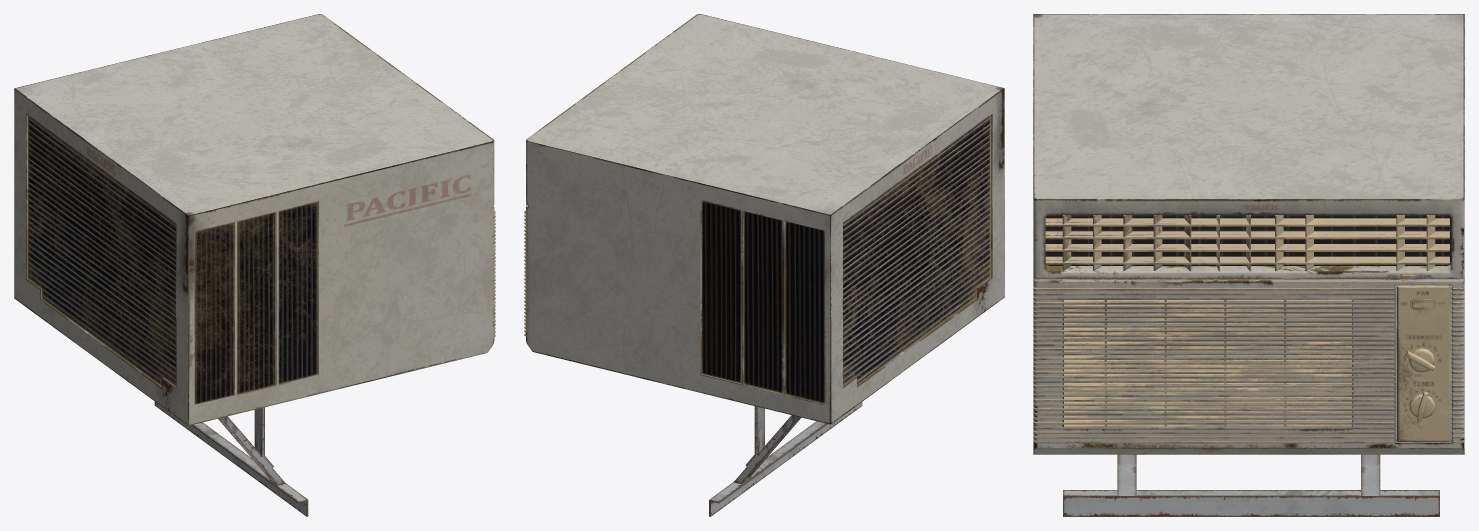
Rendered from SM_WindowAC.fbx.
3 renders of one model, left to right at view 1: azimuth 30°, elevation 25°; view 2: azimuth 150°, elevation 25°; view 3: azimuth 270°, elevation 25°, orthographic. The views are drawn at different scales.
Visible parts, largest first — view 1: SM_WindowAC_LOD0; view 2: SM_WindowAC_LOD0; view 3: SM_WindowAC_LOD0.
Boxes of the visible parts, x1,y1,x2,y2 form: SM_WindowAC_LOD0: [14, 14, 495, 516]; SM_WindowAC_LOD0: [524, 14, 1004, 516]; SM_WindowAC_LOD0: [1033, 14, 1464, 516].
Size of the model in its own units: 68.69 by 66.13 by 71.61.
1 material, 1 textured.
